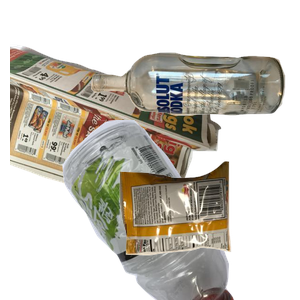glass: (88, 50, 300, 158)
paper: (10, 42, 224, 222)
plastic: (25, 120, 252, 300)
trash: (117, 159, 300, 300)
